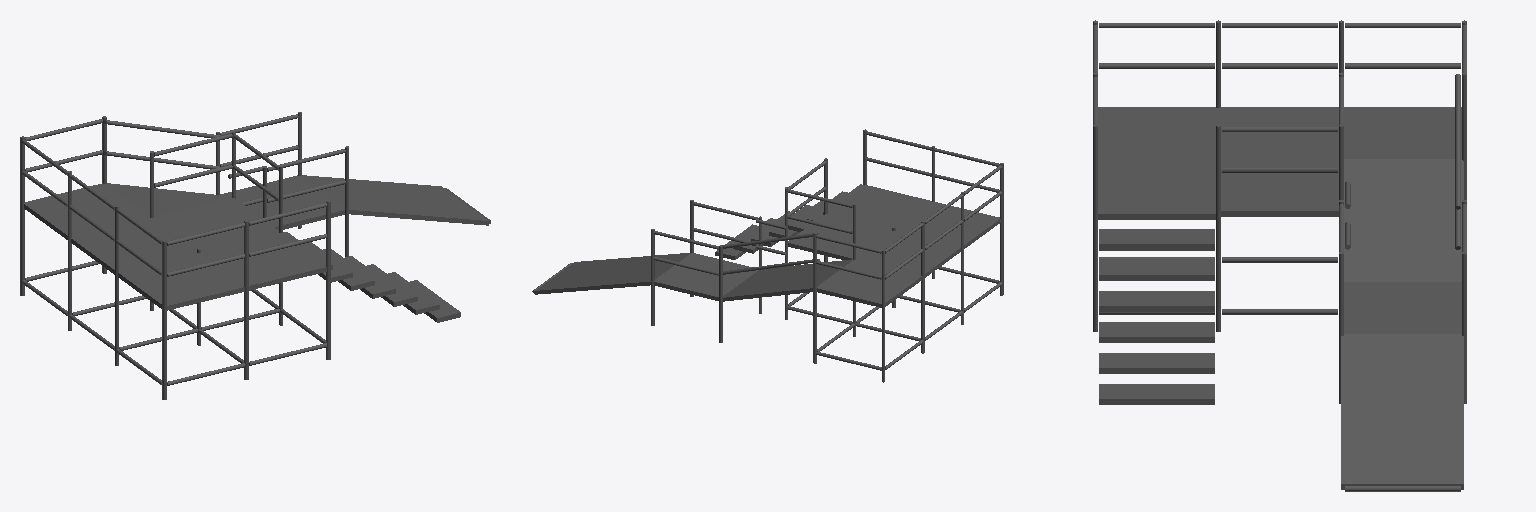
The robot description file, URDF, robot "scaffolding":
<?xml version="1.0" ?>
<robot name="scaffolding" xmlns:xacro="http://ros.org/wiki/xacro">
  <link name="base_link">
    <inertial>
      <mass value="200" />
      <inertia ixx="1.0" ixy="0.0" ixz="0.0" iyy="1.0" iyz="0.0" izz="1.0" />
    </inertial>
    <visual>
      <origin rpy="0 0 0" xyz="0 0 0"/>
      <geometry>
        <mesh filename="package://uoe_lab_resources/meshes/scaffolding.stl"/>
      </geometry>
      <material name="">
        <color rgba="0.4 0.4 0.4 1.0"/>
      </material>
    </visual>
    <collision concave="yes">
      <origin rpy="0 0 0" xyz="0 0 0"/>
      <geometry>
        <mesh filename="package://uoe_lab_resources/meshes/scaffolding.stl"/>
      </geometry>
    </collision>
  </link>
  <gazebo>
    <static>1</static>
  </gazebo>
</robot>

--- What the picture shows (computed from the rendered views, not written in the file) ---
3 views of the same robot in one strip: view 1: azimuth 30°, elevation 25°; view 2: azimuth 150°, elevation 25°; view 3: azimuth 270°, elevation 25° (orthographic).
Model scaffolding with 1 links and 0 joints (none), rooted at base_link, posed every joint at zero.
Visible links, largest first — view 1: base_link; view 2: base_link; view 3: base_link.
Link boxes in pixels (bbox=[...]): base_link: bbox=[20, 112, 490, 399]; base_link: bbox=[532, 129, 1003, 382]; base_link: bbox=[1093, 20, 1466, 491].
Bounding box of the posed robot: 5.7 × 3.35 × 2.03 m (x, y, z).
1 mesh visuals loaded from 1 distinct referenced files (1 binary STL).